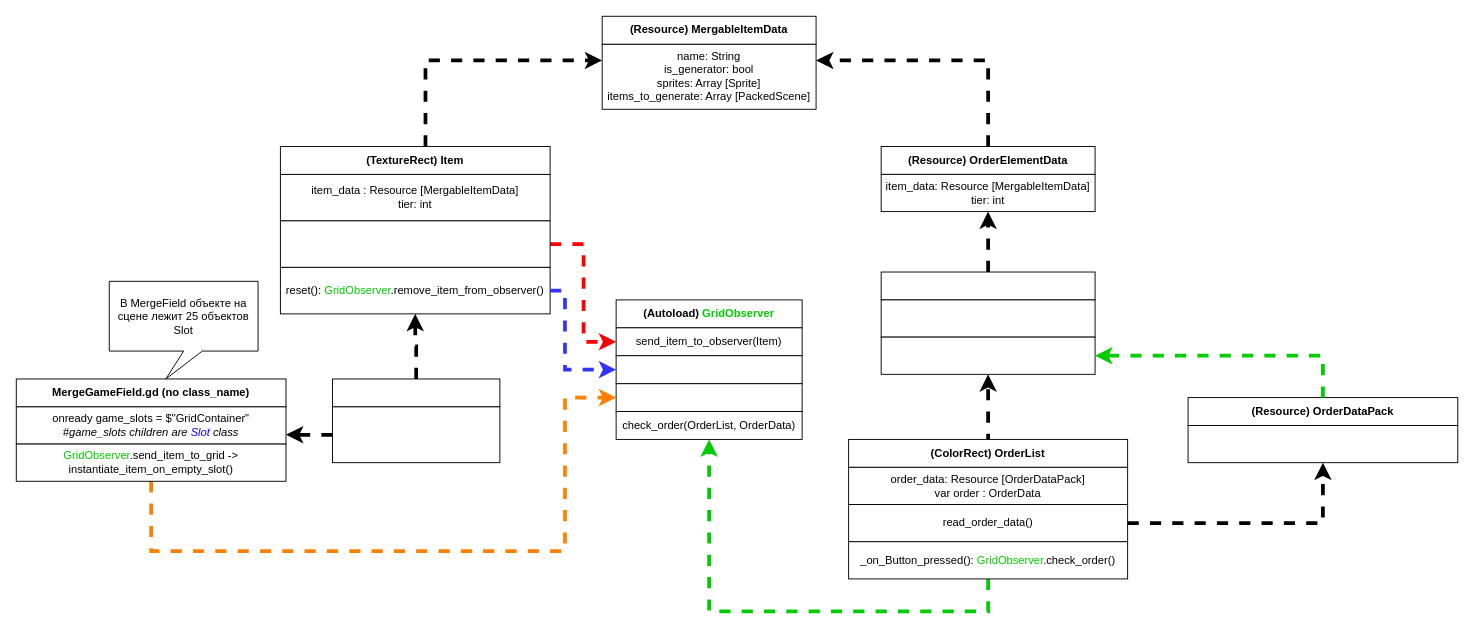
The diagram is 1474 pixels wide and 637 high, and some of its shapes have lost their labels. The shapes that lost their labels are listed below. From the top down, each one's centre as x and y in pixels, then its label:
At point (414, 243): "refresh(): GridObserver .send_item_to_observer()".
At point (987, 285): "(Reference) OrderData".
At point (987, 318): "data: Array [OrderElementData]".
At point (708, 369): "remove_item_from_observer(Item)".
At point (987, 355): "generate(datapack : OrderDataPack)".
At point (416, 392): "(Panel) Slot".
At point (708, 397): "send_item_to_grid(Resource)".
At point (416, 434): "ItemObject: PackedScene [Item] ItemDragPreview: PackedScene item: Item".
At point (1322, 444): "count: int possible_elements: Array [OrderElementData]".
